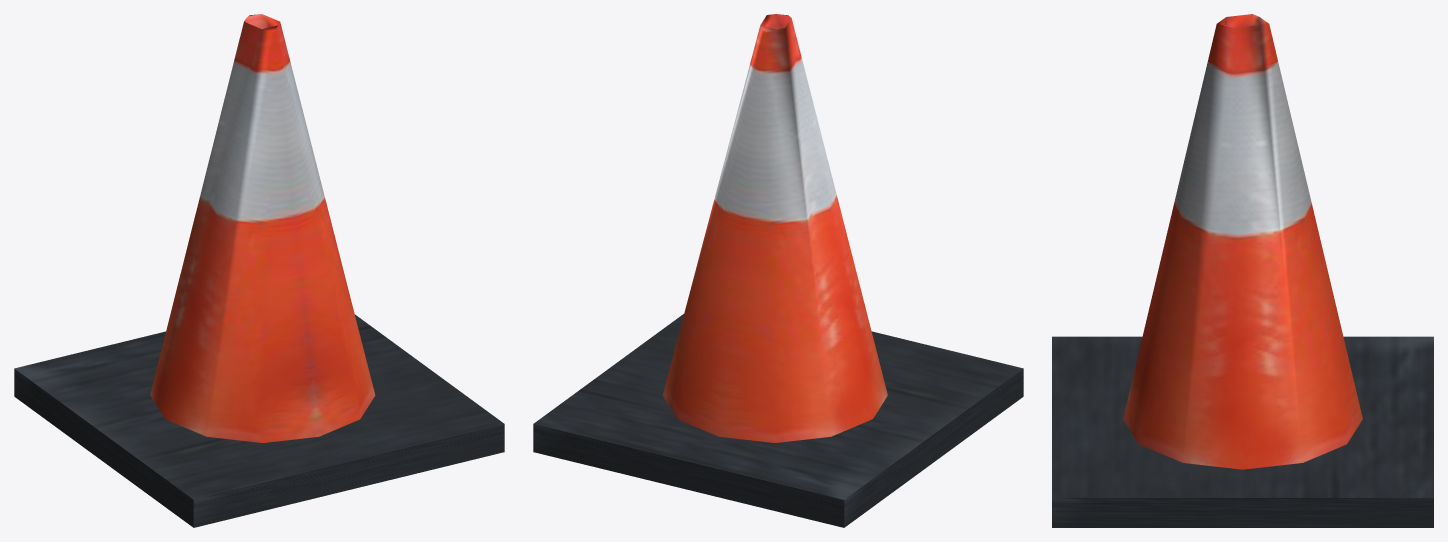
The model's file is orangepylon_2.fbx.
The picture shows the model from 3 angles, left to right: view 1: azimuth 30°, elevation 25°; view 2: azimuth 150°, elevation 25°; view 3: azimuth 270°, elevation 25°; orthographic projection. The views are drawn at different scales.
Visible parts, largest first — view 1: ChamferTube01, Box01; view 2: ChamferTube01, Box01; view 3: ChamferTube01, Box01.
Boxes of the visible parts, <box> form: ChamferTube01: <box>150,14,375,442</box>; Box01: <box>14,314,504,527</box>; ChamferTube01: <box>662,14,887,442</box>; Box01: <box>533,314,1023,527</box>; ChamferTube01: <box>1123,14,1362,469</box>; Box01: <box>1052,336,1433,527</box>.
Bounding box in the file's own units: 35.43 × 43.76 × 35.43.
